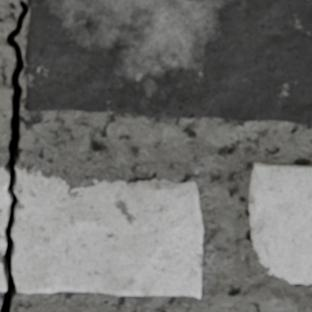brick: (24, 0, 311, 123), (247, 162, 311, 283)
broken_brick: (11, 167, 202, 296), (0, 167, 10, 289)
crack: (0, 1, 27, 311)
